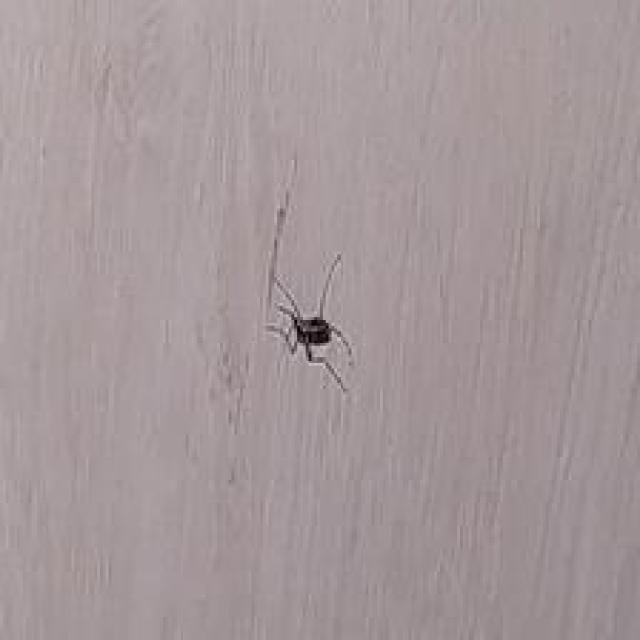Aedes albopictus: (264, 252, 356, 394)
